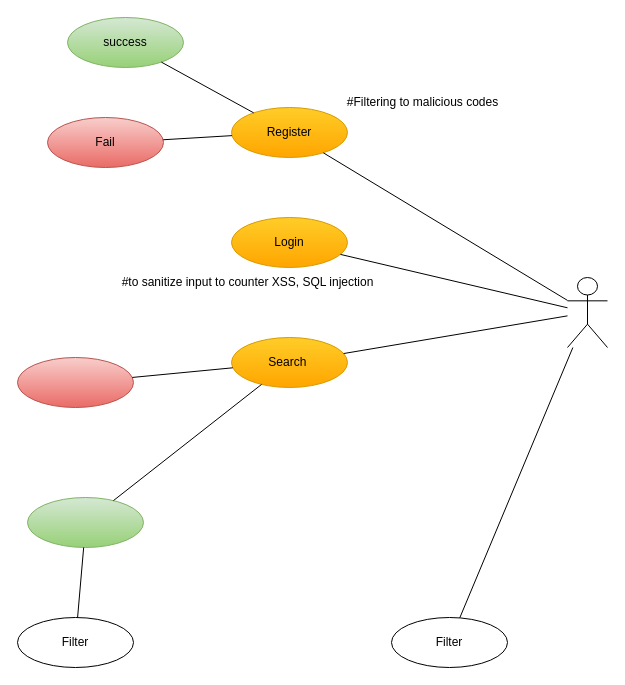
The diagram is 625 pixels wide and 685 high, and some of its shapes have lost their labels. Each missing label, with the centre of its shape:
Actor: point (587, 312)
Found: point (85, 522)
Not Found: point (75, 382)
